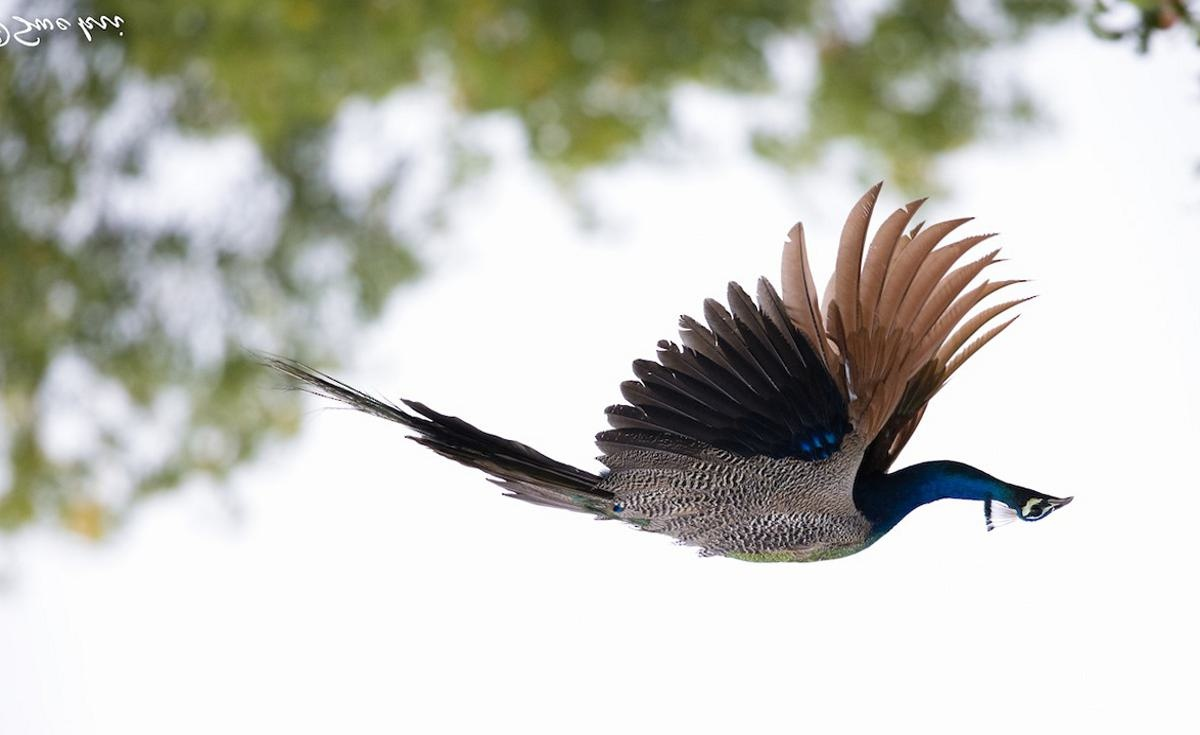peacock: (320, 149, 1123, 607)
